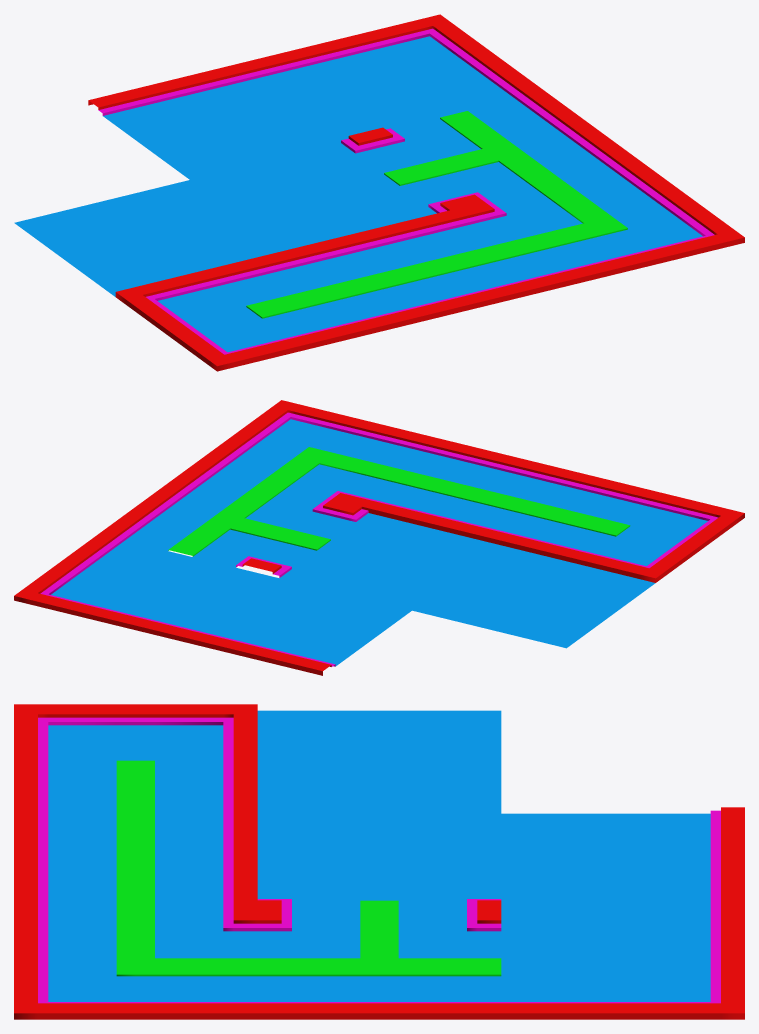
Rendered from Floors.fbx.
3 views of the same model, one above another, from view 1: azimuth 30°, elevation 25°; view 2: azimuth 150°, elevation 25°; view 3: azimuth 270°, elevation 25° (orthographic). The views are drawn at different scales.
Parts seen in each view (by area): view 1: Corner, End, Base, Side, Turn, Bifurcation, Entrance, Middle; view 2: End, Turn, Base, Corner, Bifurcation, Entrance, Side, Middle; view 3: End, Bifurcation, Turn, Corner, Middle, Side, Base, Entrance.
Part boxes in pixels (<box>): Corner: <box>265,14,541,132</box>; End: <box>115,249,392,371</box>; Base: <box>292,206,568,328</box>; Side: <box>88,57,359,179</box>; Turn: <box>468,163,744,285</box>; Bifurcation: <box>366,89,642,205</box>; Entrance: <box>190,131,466,250</box>; Middle: <box>14,180,285,296</box>; End: <box>501,475,744,582</box>; Turn: <box>193,400,435,502</box>; Base: <box>347,438,589,545</box>; Corner: <box>14,530,256,637</box>; Bifurcation: <box>103,465,346,568</box>; Entrance: <box>258,503,500,610</box>; Side: <box>168,573,411,675</box>; Middle: <box>412,545,655,648</box>; End: <box>14,704,257,813</box>; Bifurcation: <box>257,910,501,1019</box>; Turn: <box>14,910,257,1019</box>; Corner: <box>501,910,744,1019</box>; Middle: <box>257,710,501,813</box>; Side: <box>501,807,744,916</box>; Base: <box>14,807,257,916</box>; Entrance: <box>257,813,501,916</box>.
Size of the model in its own units: 236 by 2.28 by 236.
